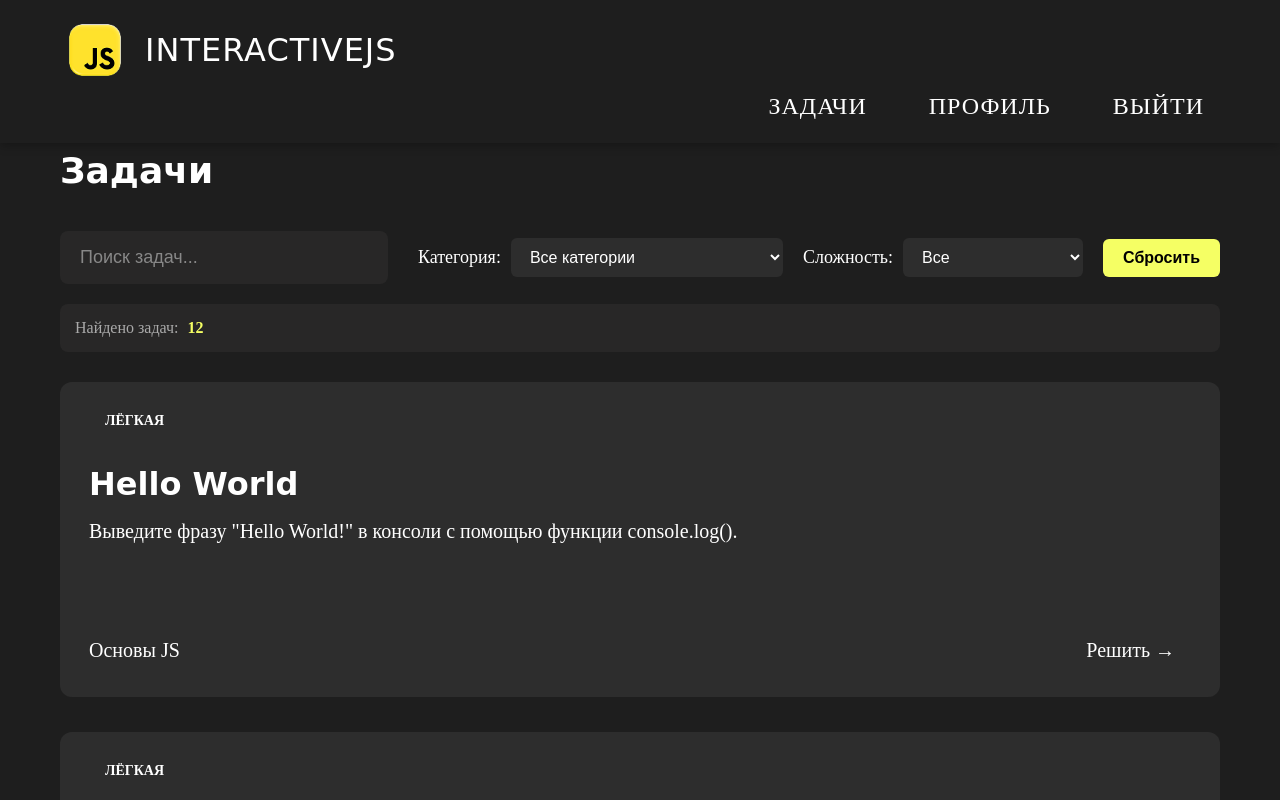
TasksPageView - фильтры › кнопка "Сбросить" возвращает список к полному
Step 1. Type "Hello World" into the field with class "search-input" → (224, 258), box [60, 231, 388, 284]
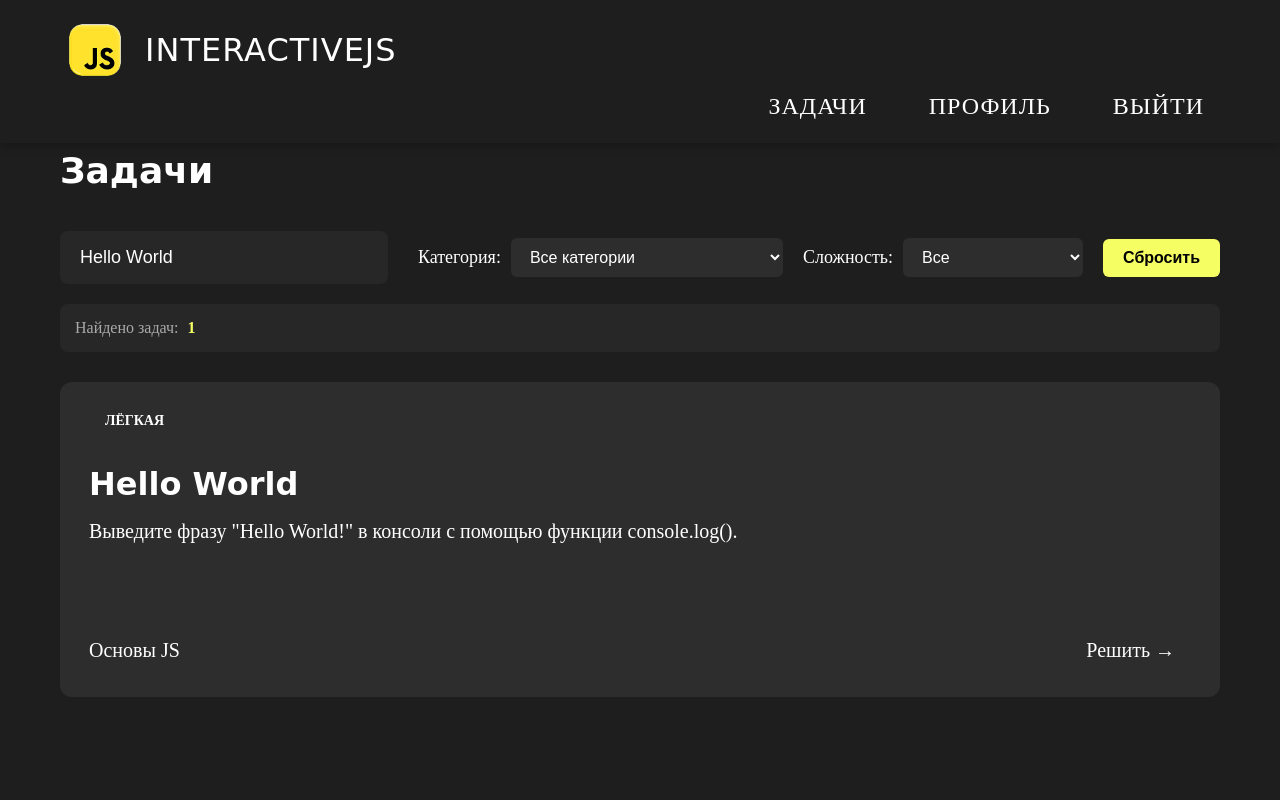
Step 2. Click the button with class "reset-button" → click(1162, 258), box [1103, 238, 1220, 276]
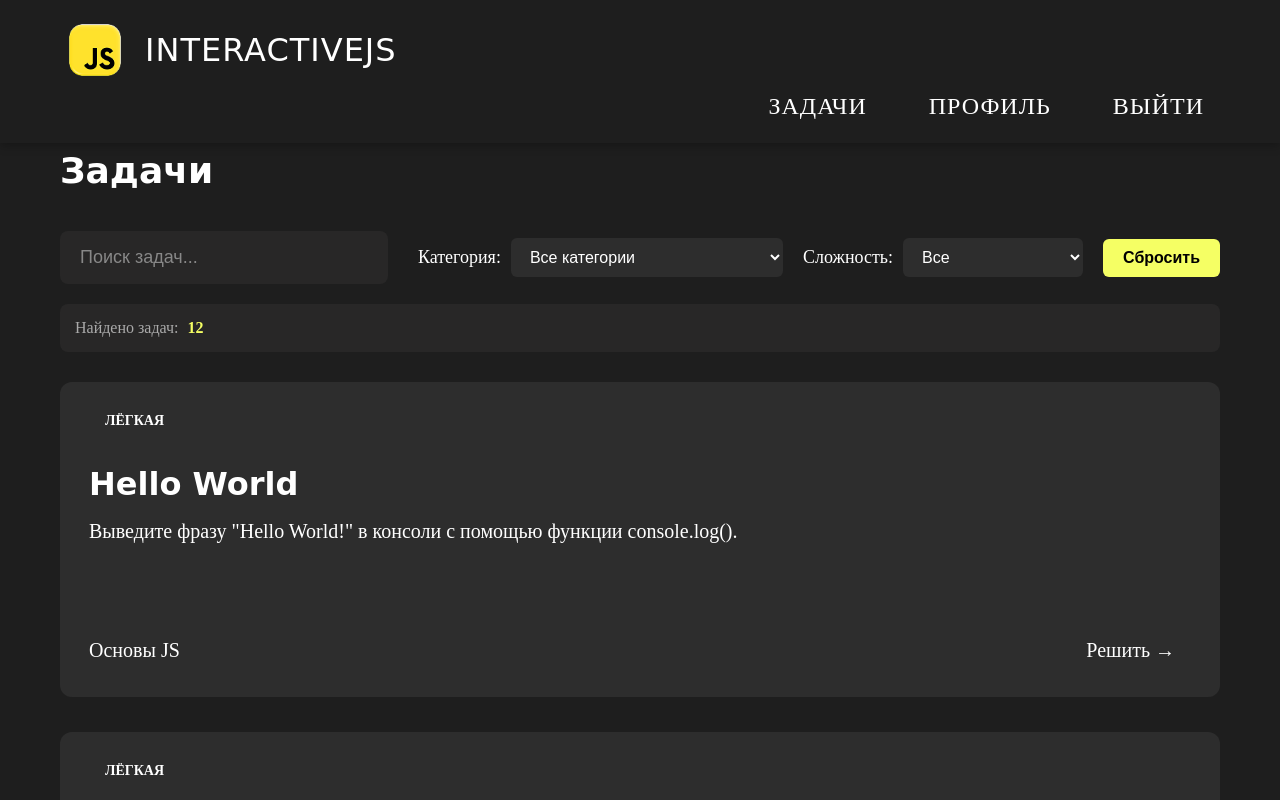
Expected: the text "Найдено задач: 12" is shown, [75, 319, 204, 336]
